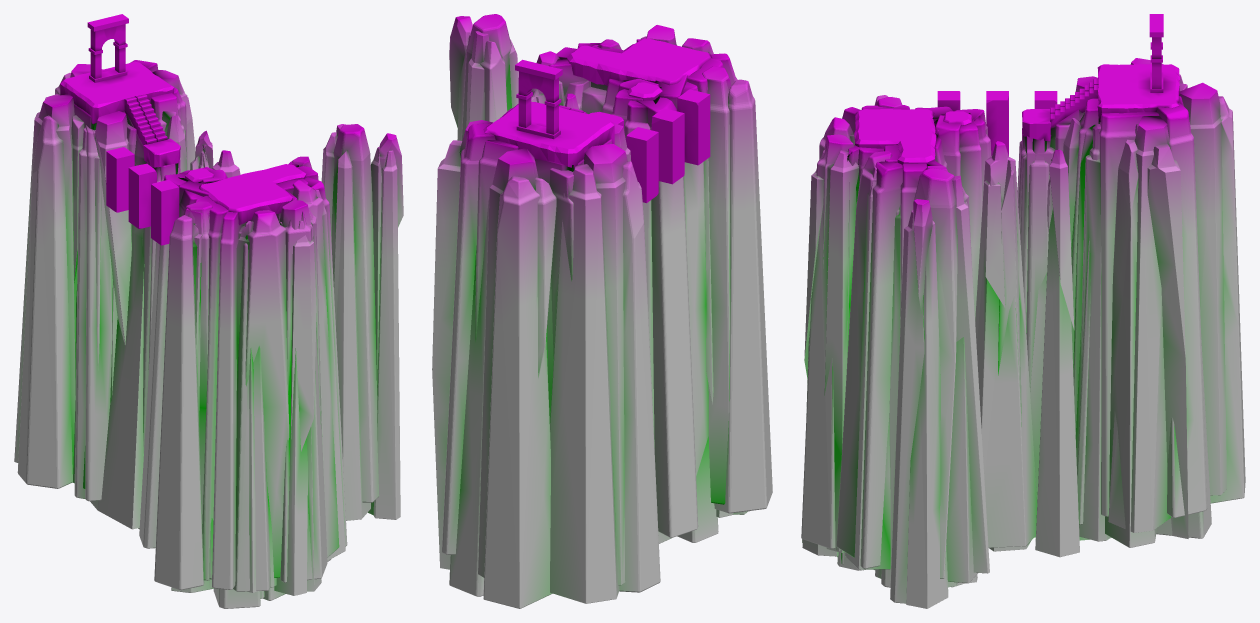
Rendered from level.glb.
3 renders of one model, left to right at view 1: azimuth 30°, elevation 25°; view 2: azimuth 150°, elevation 25°; view 3: azimuth 270°, elevation 25°, orthographic. The views are drawn at different scales.
Parts seen in each view (by area): view 1: rock, marble; view 2: rock, marble; view 3: rock, marble.
Boxes of the visible parts, x1,y1,x2,y2 form: rock: (14, 60, 403, 608); marble: (60, 14, 306, 245); rock: (432, 14, 772, 608); marble: (483, 38, 711, 203); rock: (801, 58, 1245, 608); marble: (854, 14, 1180, 164).
Size of the model in its own units: 12.98 by 21.11 by 16.47.
